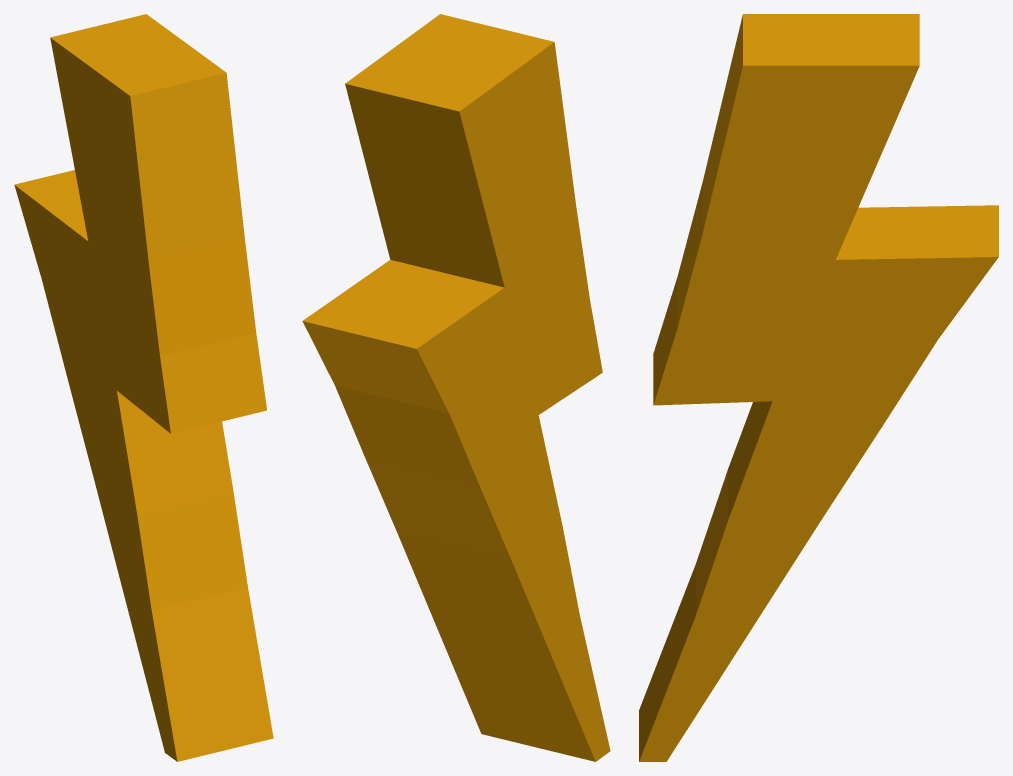
Rendered from piorunek.fbx.
3 renders of one model, left to right at view 1: azimuth 30°, elevation 25°; view 2: azimuth 150°, elevation 25°; view 3: azimuth 270°, elevation 25°, orthographic. The views are drawn at different scales.
Visible parts, largest first — view 1: Cube; view 2: Cube; view 3: Cube.
Boxes of the visible parts, <box> form: Cube: <box>14,14,273,761</box>; Cube: <box>302,14,610,761</box>; Cube: <box>639,14,998,761</box>.
Bounding box in the file's own units: 29.01 × 182 × 85.15.
